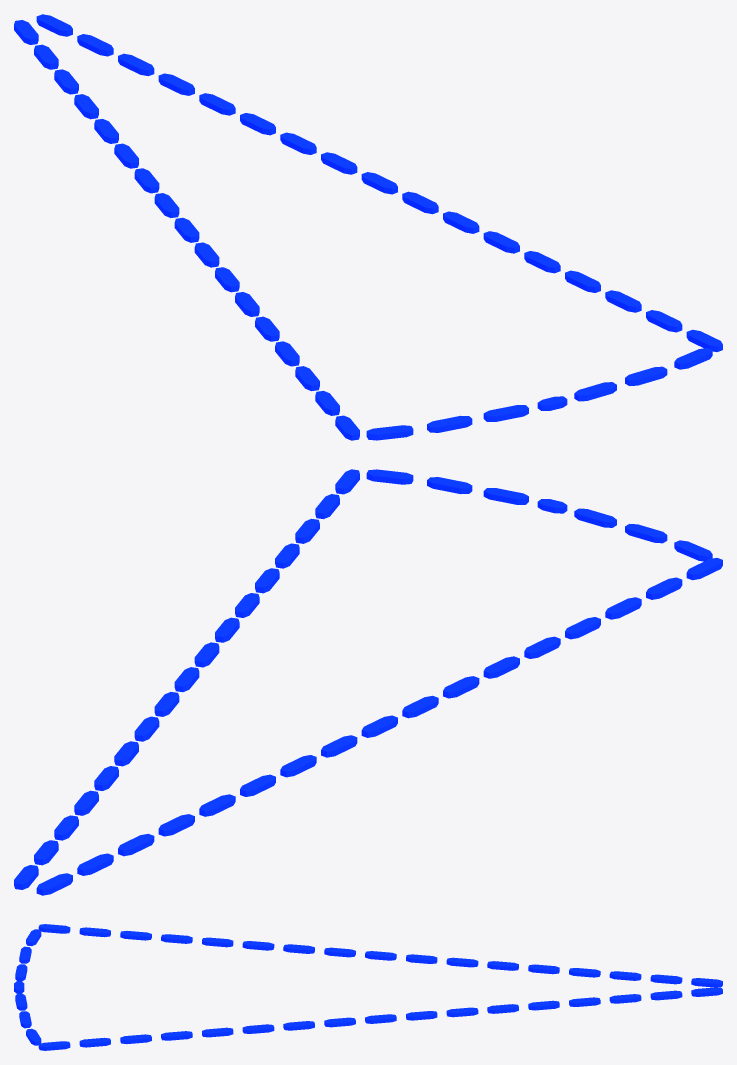
Rendered from aim_cone_blue_dotted.fbx.
3 renders of one model, top to bottom at view 1: azimuth 30°, elevation 25°; view 2: azimuth 150°, elevation 25°; view 3: azimuth 270°, elevation 25°, orthographic. The views are drawn at different scales.
Parts seen in each view (by area): view 1: Cube.001; view 2: Cube.001; view 3: Cube.001.
Boxes of the visible parts, bbox=[...] form: Cube.001: bbox=[14, 14, 722, 440]; Cube.001: bbox=[14, 469, 722, 895]; Cube.001: bbox=[14, 924, 722, 1050].
Size of the model in its own units: 140 by 2 by 341.
